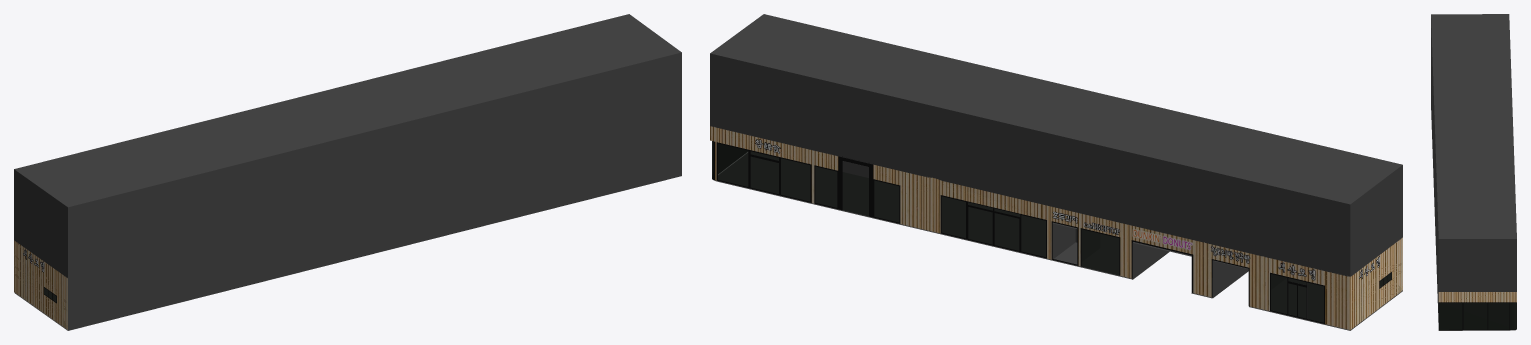
The model's file is FirstMarket.fbx.
3 views of the same model, side by side, from view 1: azimuth 30°, elevation 25°; view 2: azimuth 150°, elevation 25°; view 3: azimuth 270°, elevation 25° (orthographic). The views are drawn at different scales.
Parts seen in each view (by area): view 1: Box172; view 2: Box172; view 3: Box172.
Part boxes in pixels (x1,y1,x2,y2): Box172: [14, 14, 681, 330]; Box172: [710, 14, 1402, 330]; Box172: [1431, 14, 1516, 330].
Bounding box in the file's own units: 37.04 × 7.05 × 5.98.
4 materials, 1 textured.
